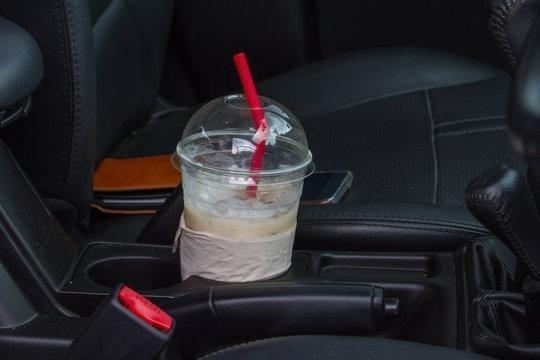cup-disposable: (171, 90, 316, 283)
